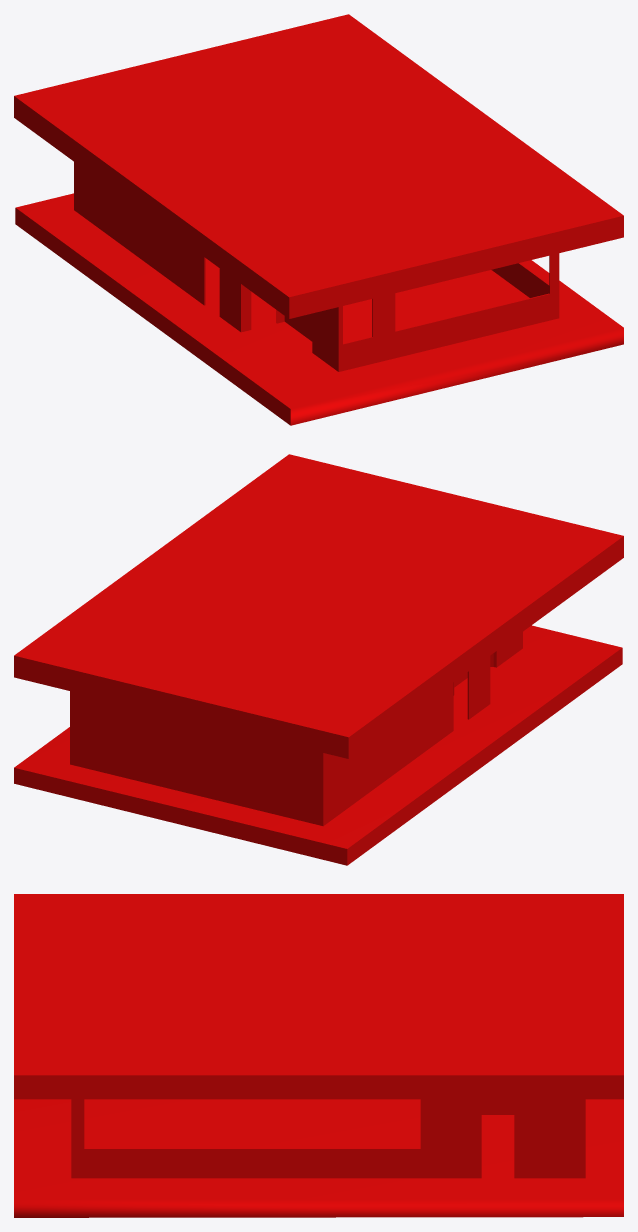
Rendered from procthor_environments_classroom_grp.fbx.
3 views of the same model, one above another, from view 1: azimuth 30°, elevation 25°; view 2: azimuth 150°, elevation 25°; view 3: azimuth 270°, elevation 25° (orthographic). The views are drawn at different scales.
Visible parts, largest first — view 1: procthor_environment_office_ceiling, procthor_environment_office_floor, procthor_environment_office_walls; view 2: procthor_environment_office_ceiling, procthor_environment_office_floor, procthor_environment_office_walls; view 3: procthor_environment_office_ceiling, procthor_environment_office_floor, procthor_environment_office_walls.
Part boxes in pixels (x1=…): procthor_environment_office_ceiling: x1=14, y1=14, x2=623, y2=318; procthor_environment_office_floor: x1=15, y1=193, x2=623, y2=425; procthor_environment_office_walls: x1=74, y1=162, x2=559, y2=371; procthor_environment_office_ceiling: x1=14, y1=454, x2=623, y2=758; procthor_environment_office_floor: x1=14, y1=625, x2=622, y2=865; procthor_environment_office_walls: x1=70, y1=632, x2=522, y2=826; procthor_environment_office_ceiling: x1=14, y1=894, x2=623, y2=1099; procthor_environment_office_floor: x1=14, y1=1099, x2=623, y2=1217; procthor_environment_office_walls: x1=71, y1=1099, x2=585, y2=1178.
Size of the model in its own units: 1277 by 470 by 1818.
